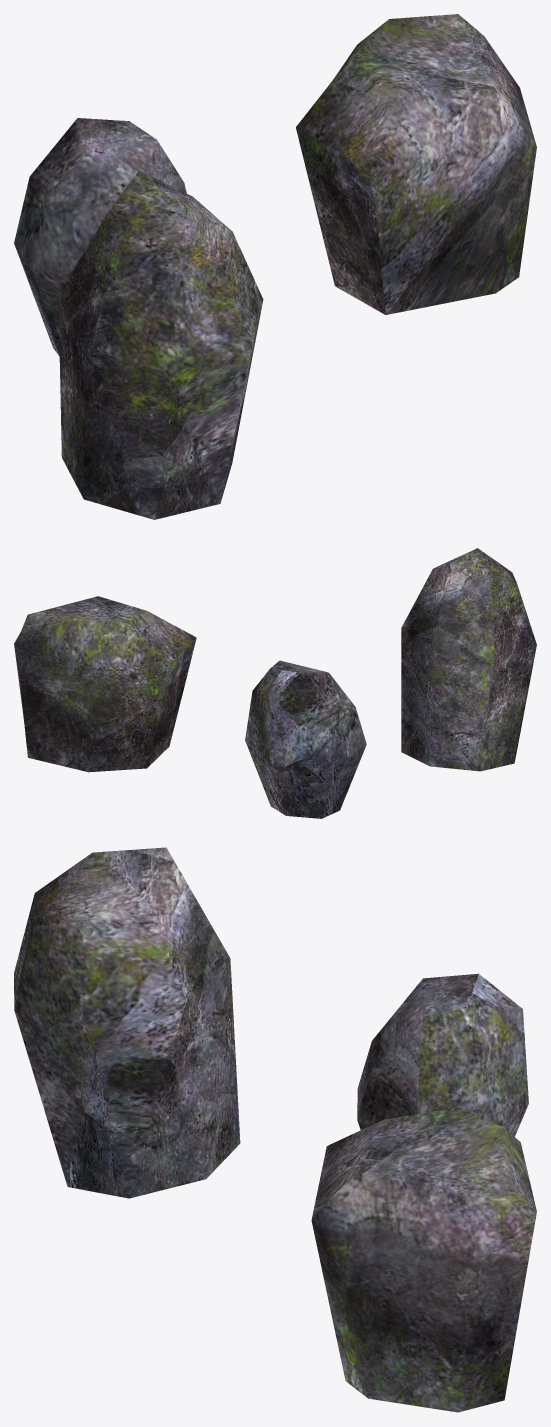
Rendered from cairn_02_04_re.fbx.
3 views of the same model, one above another, from view 1: azimuth 30°, elevation 25°; view 2: azimuth 150°, elevation 25°; view 3: azimuth 270°, elevation 25° (orthographic). The views are drawn at different scales.
Parts seen in each view (by area): view 1: cairn_02_04; view 2: cairn_02_04; view 3: cairn_02_04.
Boxes of the visible parts, <box> form: cairn_02_04: <box>14,14,536,519</box>; cairn_02_04: <box>14,548,536,818</box>; cairn_02_04: <box>14,847,536,1412</box>.
Bounding box in the file's own units: 17.72 × 8.53 × 12.55.
